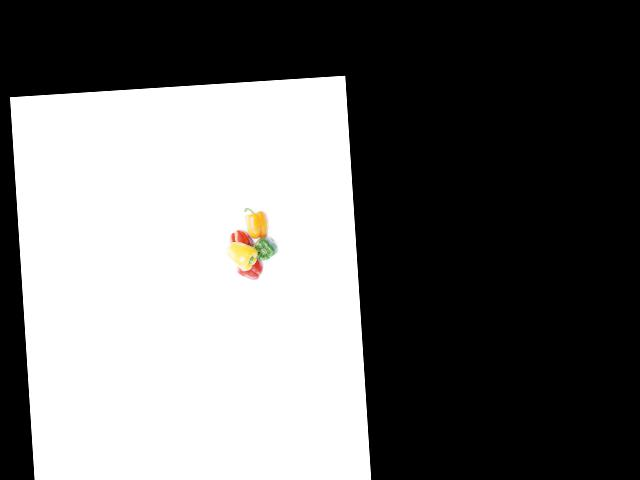bell_pepper: (247, 234, 282, 267)
